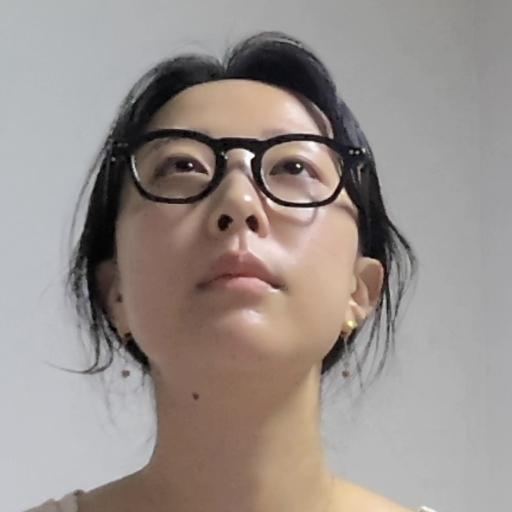no_glasses: (78, 45, 397, 399)
